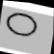no answer: (4, 9, 39, 43)
